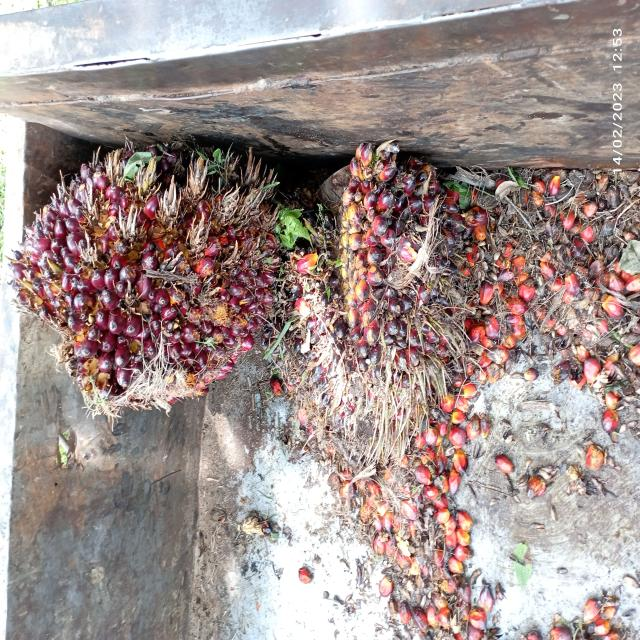fraksi 00: (312, 87, 482, 423)
fraksi 1: (12, 106, 314, 445)
